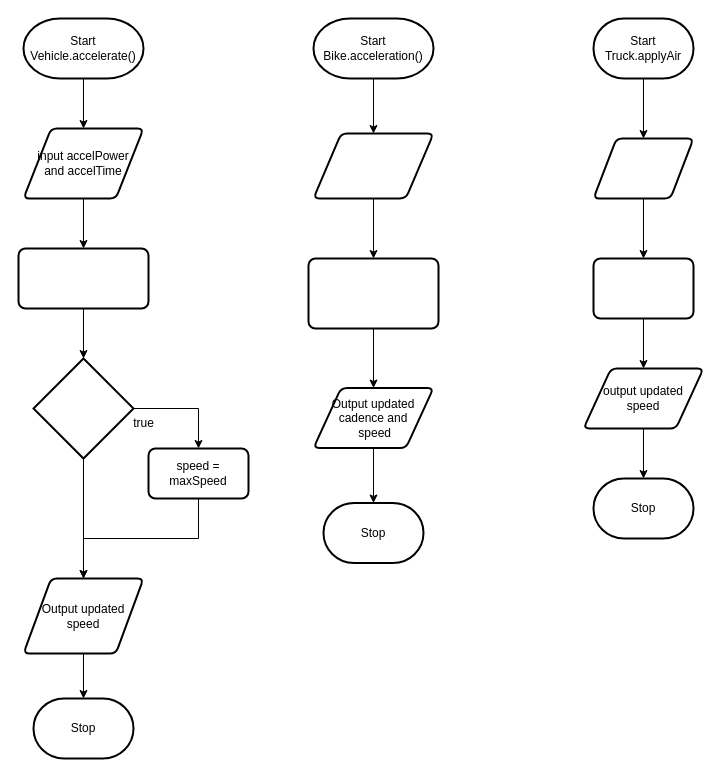
Image size: 721x776. Some labels were removed from this diagram. Here are the shapes that lost their labels. From the top down, the centre of each, then its label:
At point (373, 165): "input appliedNumber".
At point (643, 168): "input airPressure".
At point (83, 278): "calculate new speed: speed = (accelPower * accelTime) + current speed".
At point (373, 293): "Increase cadence cadence = cadence + appliedNumber".
At point (643, 288): "speed = speed - (airPressure/2)".
At point (83, 408): "if speed > maxSpeed".
